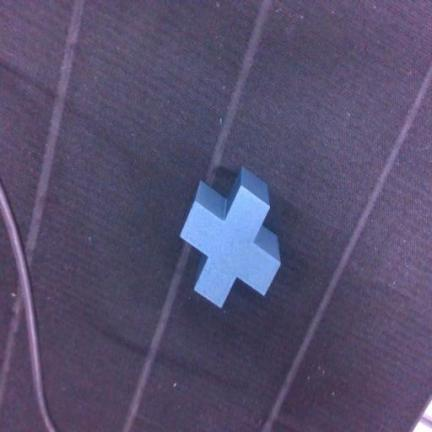cross: (181, 168, 280, 307)
